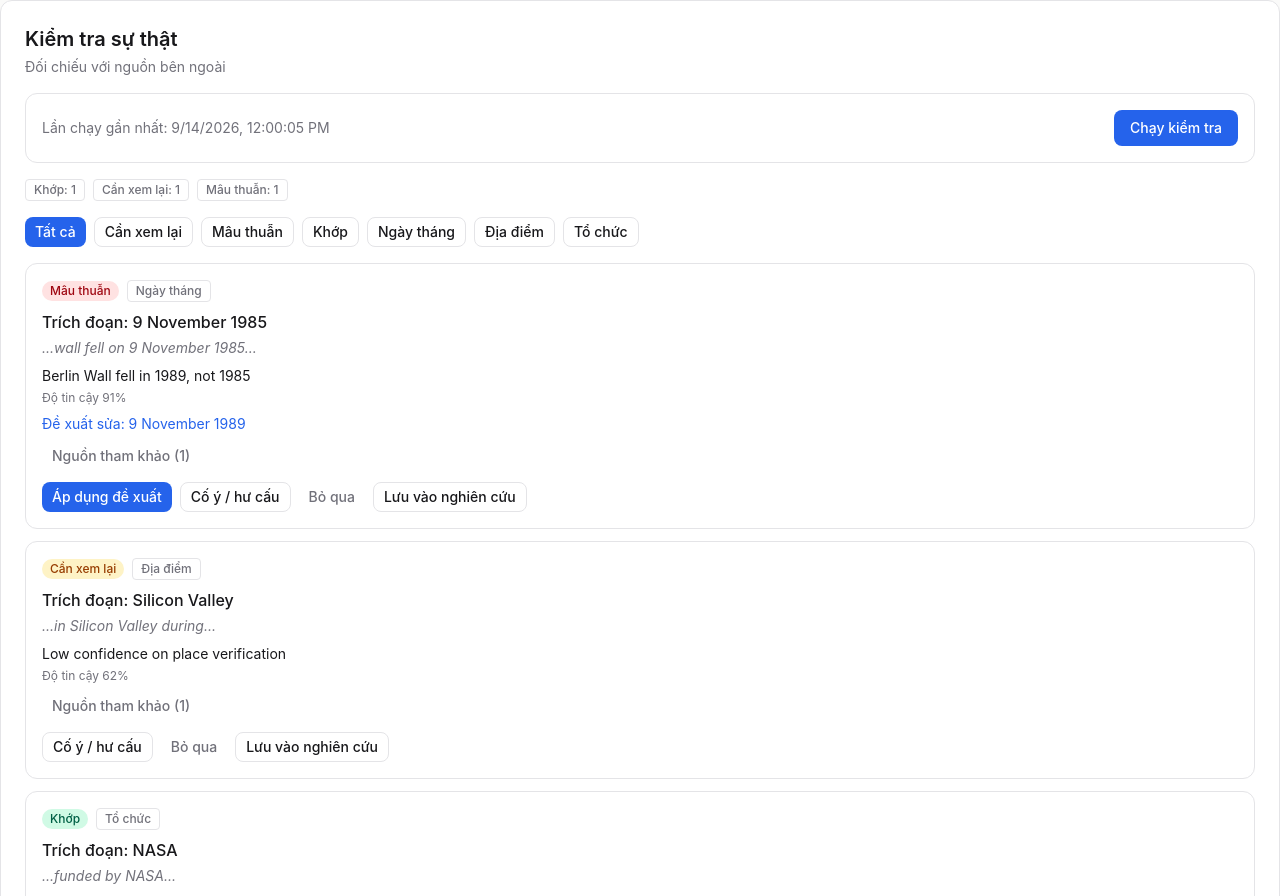
Scenario: fact-check panel › mark intentional updates disposition
Expected: the text "Mâu thuẫn: 1" is shown, [197,179,288,201]
Click the button "Cố ý / hư cấu" below "Đề xuất sửa". click: [235, 497]
box: [180,482,291,512]
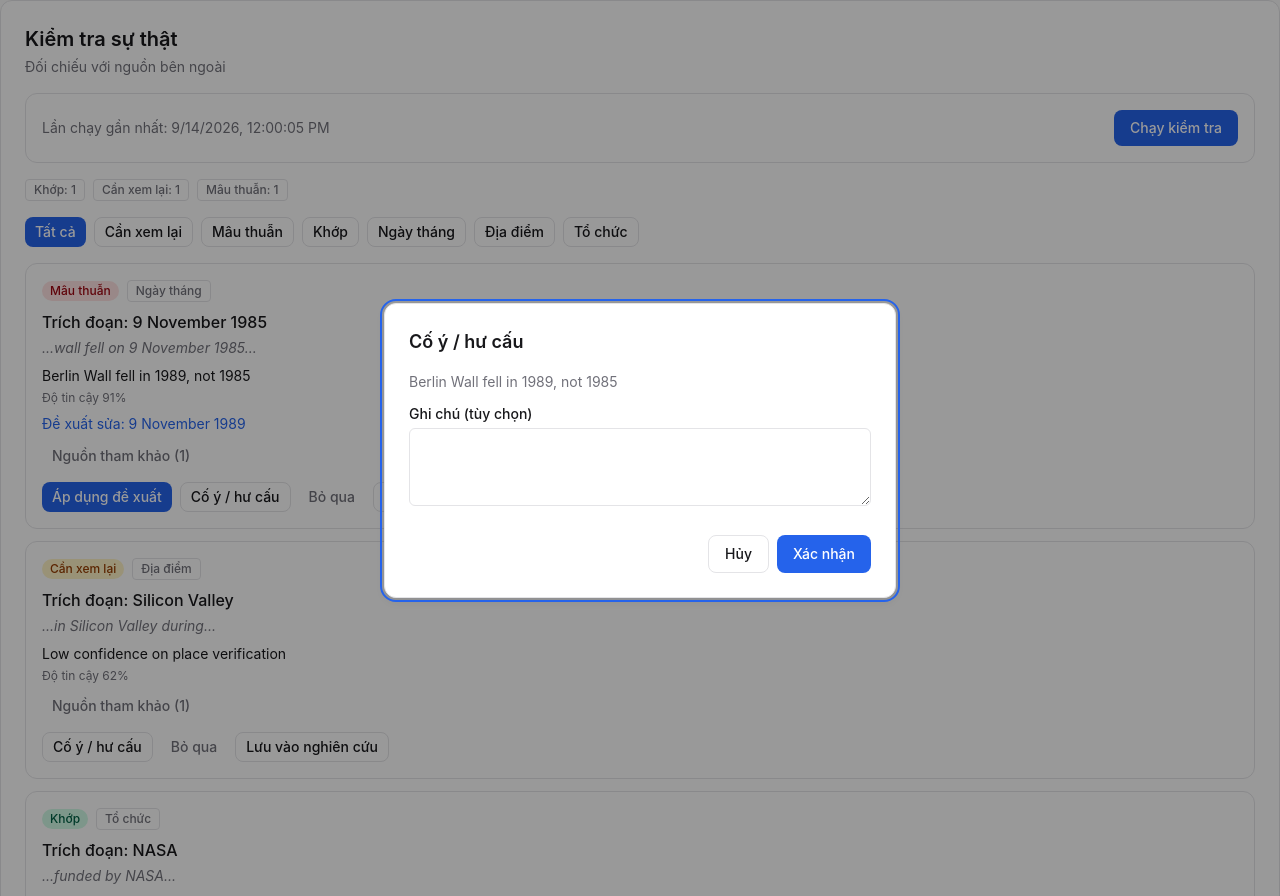
Click the button "Xác nhận". click: [824, 554]
box: [777,534,871,572]
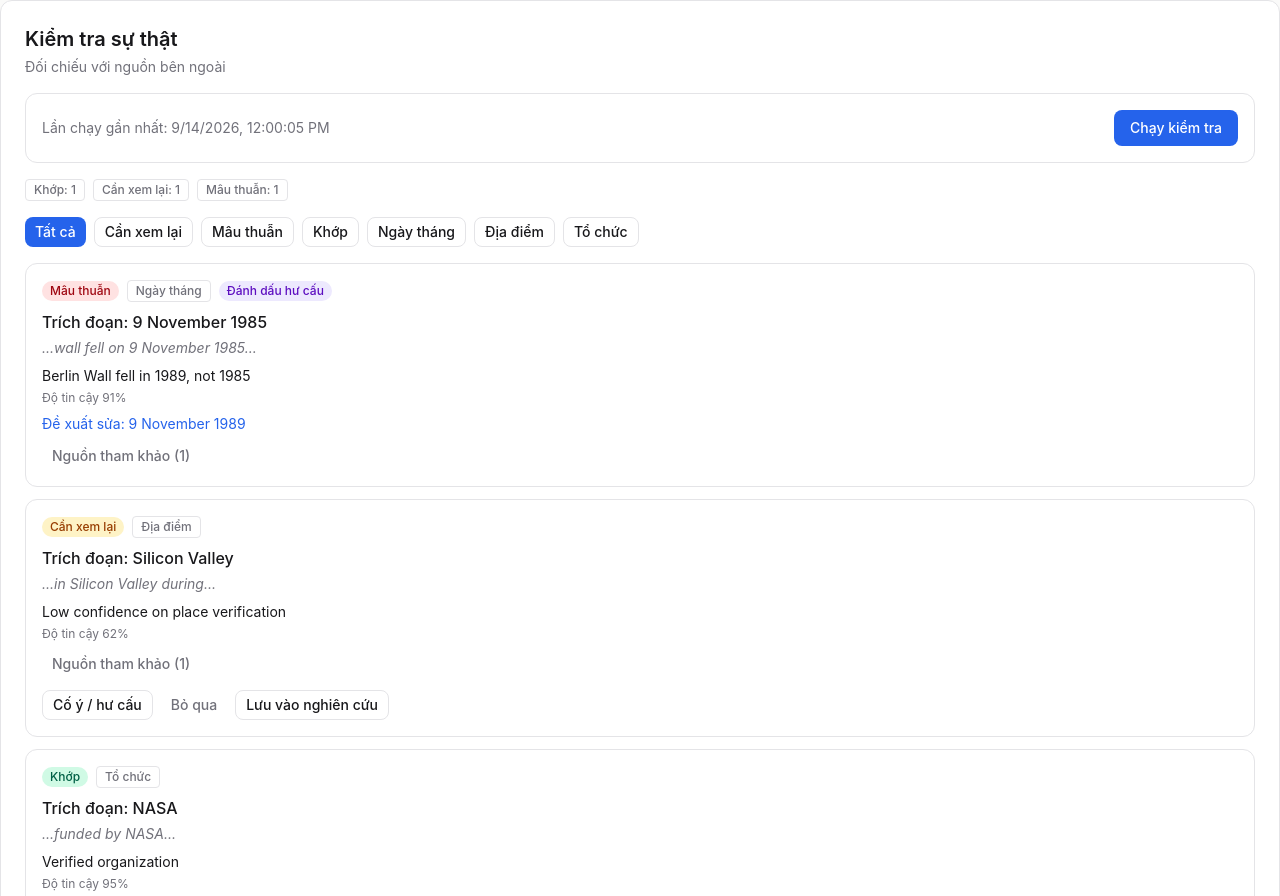
Result: the text "Đánh dấu hư cấu" is shown at [219,281,332,301]
